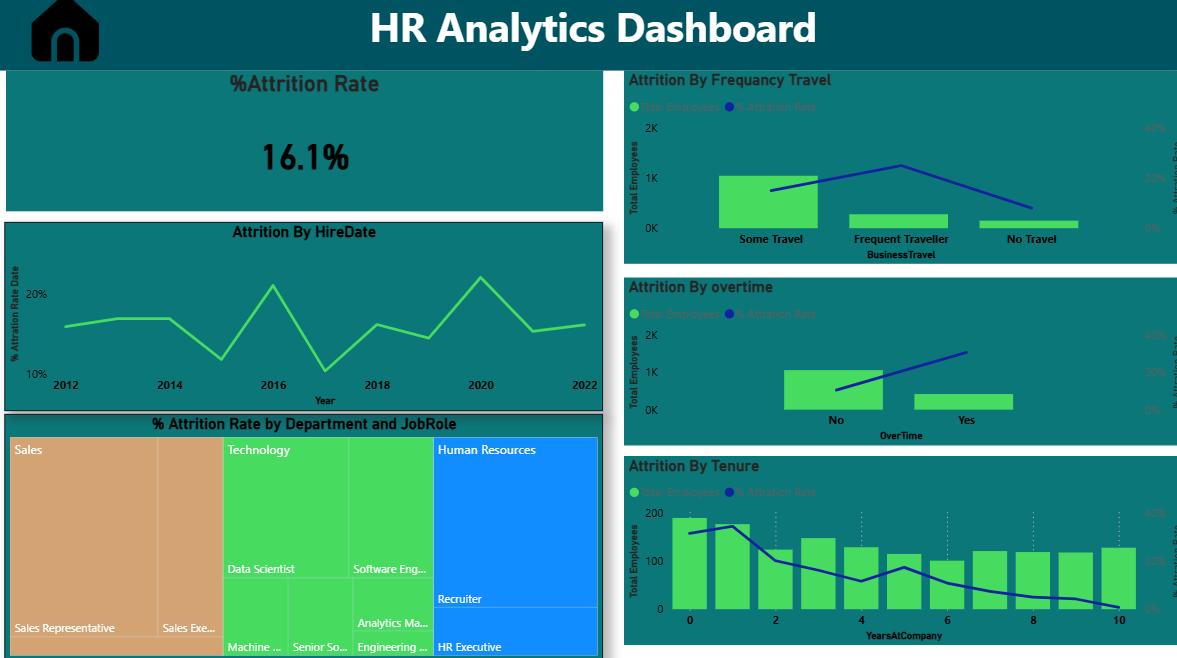

What the dashboard file says about the page in this screenshot:
{"tool":"powerbi","page":{"name":"Attrition","canvas":[1280,720],"ordinal":2},"visuals":[{"type":"card","title":"%Attrition Rate","fields":{"Values":["_Measures.% Attration Rate"]},"box":[6.5,82.6,644.5,152.2],"z":0},{"type":"treemap","title":"% Attrition Rate by Department and JobRole","fields":{"Group":["Dim_Employee.Department"],"Values":["_Measures.% Attration Rate"],"Details":["Dim_Employee.JobRole"]},"box":[4.9,453.4,646.1,267.2],"z":1000},{"type":"lineChart","title":"Attrition By HireDate","fields":{"Y":["_Measures.% Attration Rate Date"],"Category":["DimDate.Date.Variation.Date Hierarchy.Year","DimDate.Date.Variation.Date Hierarchy.Quarter","DimDate.Date.Variation.Date Hierarchy.Month"]},"box":[4.9,246.1,646.1,204],"z":2000},{"type":"lineStackedColumnComboChart","title":"Attrition By Frequancy Travel","fields":{"Y2":["_Measures.% Attration Rate"],"Category":["Dim_Employee.BusinessTravel"],"Y":["_Measures.Total Employees"]},"box":[673.6,82.6,607.2,208.9],"z":3000},{"type":"lineStackedColumnComboChart","title":"Attrition By overtime","fields":{"Y2":["_Measures.% Attration Rate"],"Y":["_Measures.Total Employees"],"Category":["Dim_Employee.OverTime"]},"box":[673.6,306,607.2,181.4],"z":4000},{"type":"lineStackedColumnComboChart","title":"Attrition By Tenure","fields":{"Y2":["_Measures.% Attration Rate"],"Y":["_Measures.Total Employees"],"Category":["Dim_Employee.YearsAtCompany"]},"box":[673.6,498.7,607.2,204],"z":5000},{"type":"textbox","box":[0,0,1280.8,82.6],"z":6000},{"type":"image","box":[30.8,0,79.3,72.9],"z":7000}]}

Visuals, with their boxes in screenshot pixels (x1, y1, x2, y2), scaled from the page's 1280x720 canvas onto the 1177x658 screenshot:
"%Attrition Rate" card: box(6, 75, 599, 215)
"% Attrition Rate by Department and JobRole" treemap: box(5, 414, 599, 657)
"Attrition By HireDate" lineChart: box(5, 225, 599, 411)
"Attrition By Frequancy Travel" lineStackedColumnComboChart: box(619, 75, 1176, 266)
"Attrition By overtime" lineStackedColumnComboChart: box(619, 280, 1176, 445)
"Attrition By Tenure" lineStackedColumnComboChart: box(619, 456, 1176, 642)
textbox: box(0, 0, 1176, 75)
image: box(28, 0, 101, 67)
